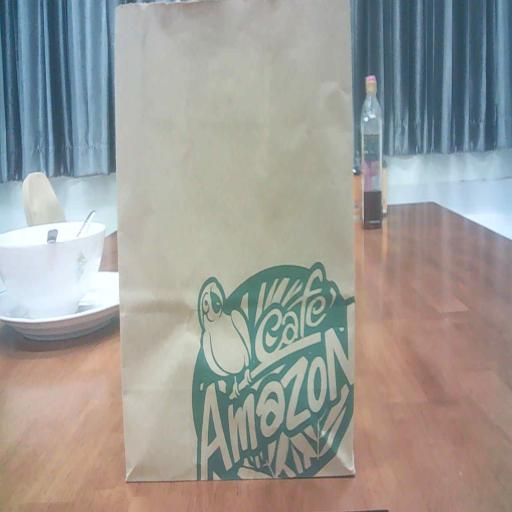bag: (111, 0, 355, 489)
